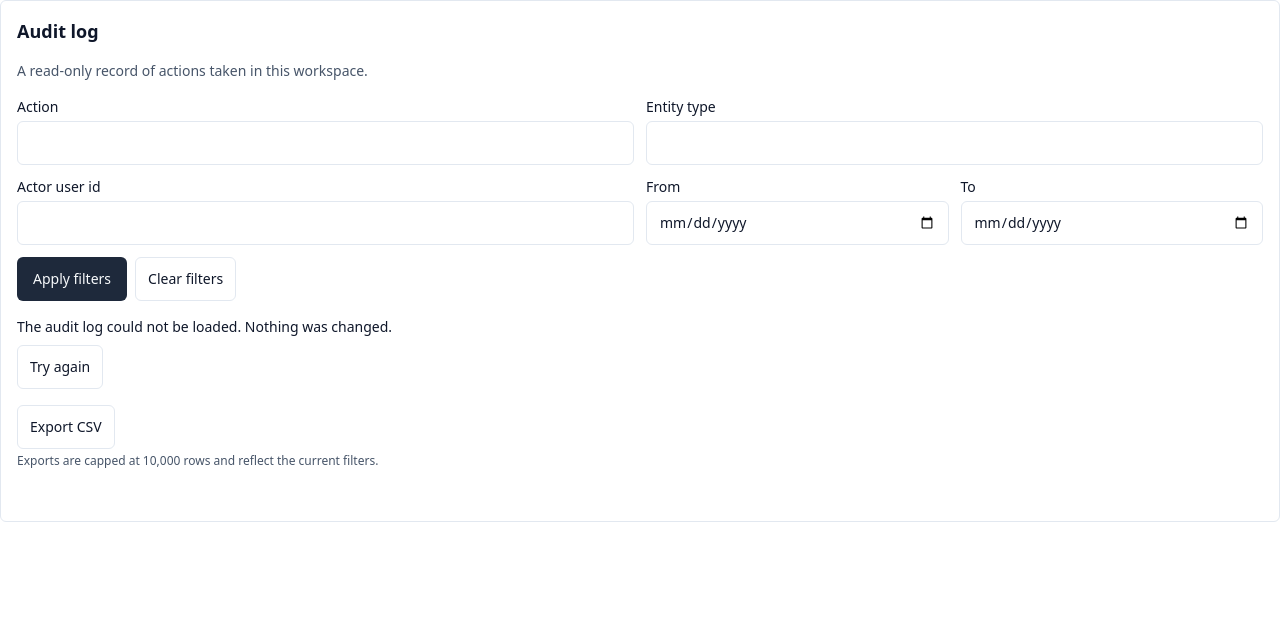
AuditLog › alerts and retries when the log cannot be loaded
Check: the message shows "The audit log could not be loaded. Nothing was changed.", box [17,317,392,336]
What coordinates should you click on to do the following:
click the button "Try again"
I would click on:
 (60, 367)
Its box is [17,345,103,389].
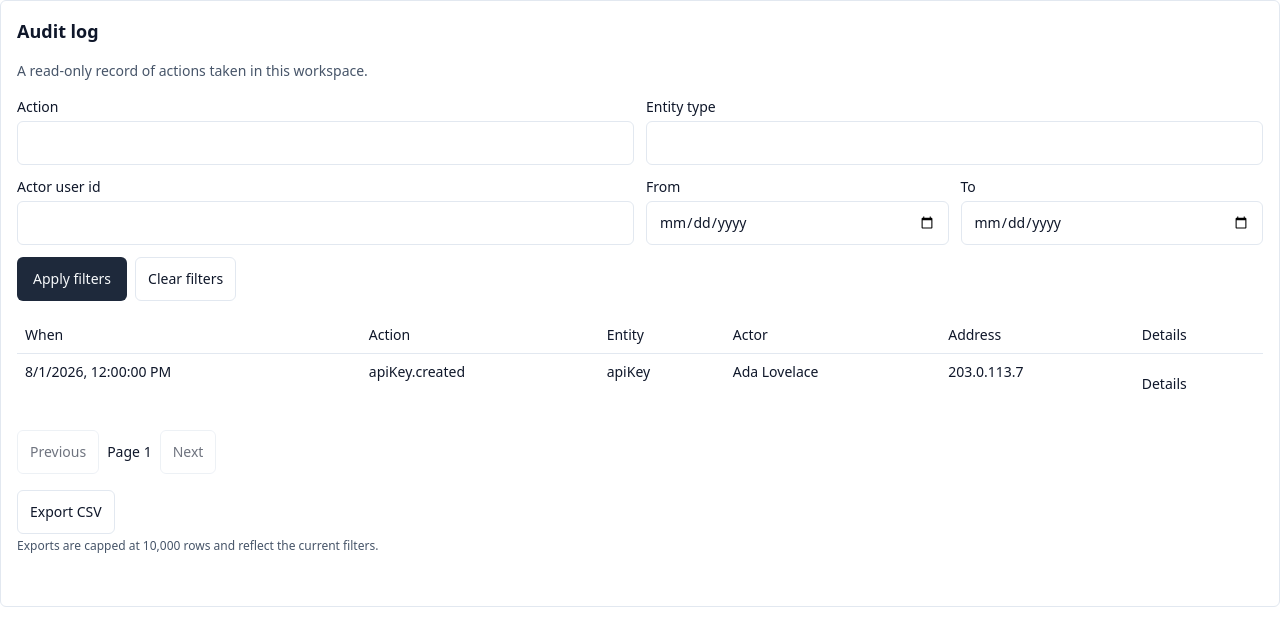
Check: the text "apiKey.created" is shown, box [361,354,599,414]
